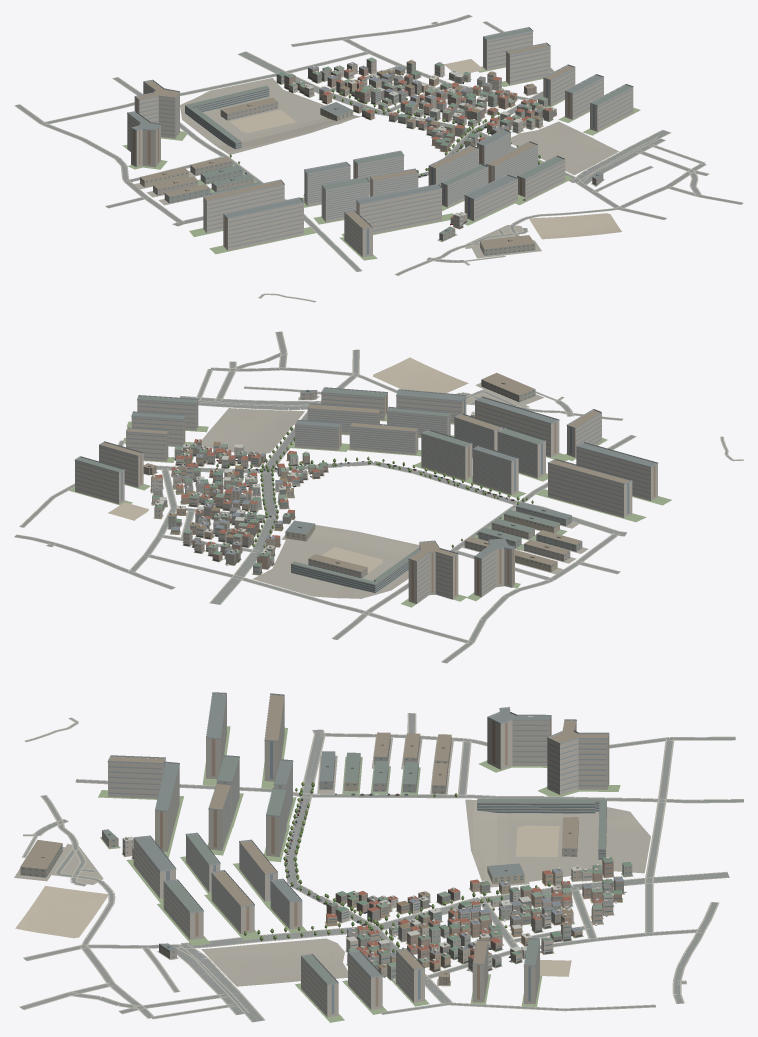
The picture shows the model from 3 angles, top to bottom: view 1: azimuth 30°, elevation 25°; view 2: azimuth 150°, elevation 25°; view 3: azimuth 270°, elevation 25°; orthographic projection. The views are drawn at different scales.
Visible parts, largest first — view 1: context-osm-buildings, context-building-plinths, context-villa-infill, context-osm-roads, context-osm-sidewalks; view 2: context-osm-buildings, context-building-plinths, context-villa-infill, context-osm-roads, context-osm-sidewalks; view 3: context-osm-buildings, context-building-plinths, context-villa-infill, context-osm-roads, context-osm-sidewalks.
Part boxes in pixels (x1,y1,x2,y2): context-osm-buildings: (127,27,633,257); context-building-plinths: (122,59,640,260); context-villa-infill: (229,57,557,229); context-osm-roads: (15,15,742,301); context-osm-sidewalks: (14,14,743,302); context-osm-buildings: (74,372,658,603); context-building-plinths: (69,357,671,607); context-villa-infill: (150,411,533,575); context-osm-roads: (14,331,743,663); context-osm-sidewalks: (14,331,743,663); context-osm-buildings: (20,692,609,1017); context-building-plinths: (14,726,650,1022); context-villa-infill: (122,782,633,980); context-osm-roads: (20,713,743,1022); context-osm-sidewalks: (19,713,743,1022).
Bounding box in the file's own units: 743 × 59.35 × 744.
